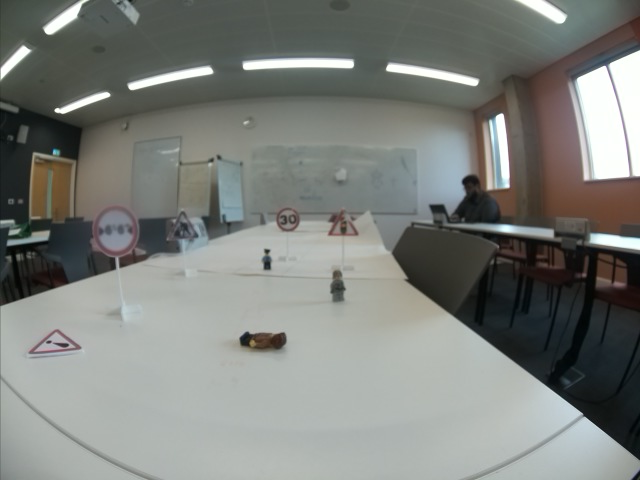30mph: (277, 207, 300, 232)
6ft6: (89, 205, 140, 258)
Lego Man: (237, 328, 290, 352), (330, 266, 346, 302), (260, 246, 274, 272)
Roadworks: (163, 211, 202, 240)
Traffic lights: (327, 207, 360, 236)
Warning: (26, 331, 84, 360)
